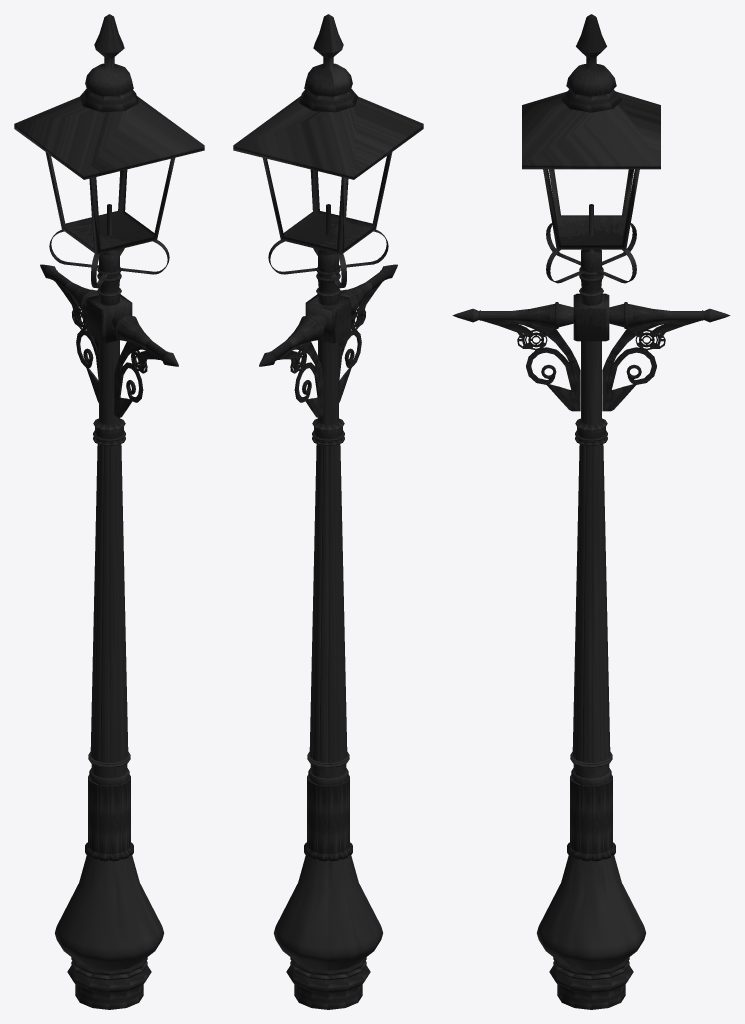
Rendered from farola.obj.
3 views of the same model, side by side, from view 1: azimuth 30°, elevation 25°; view 2: azimuth 150°, elevation 25°; view 3: azimuth 270°, elevation 25° (orthographic).
Visible parts, largest first — view 1: Farola; view 2: Farola; view 3: Farola.
Boxes of the visible parts, x1,y1,x2,y2 form: Farola: (14,14,204,1009); Farola: (233,14,423,1009); Farola: (452,14,730,1009).
Size of the model in its own units: 2.74 by 21.27 by 5.47.
Materials: 1 (1 with a texture image).
